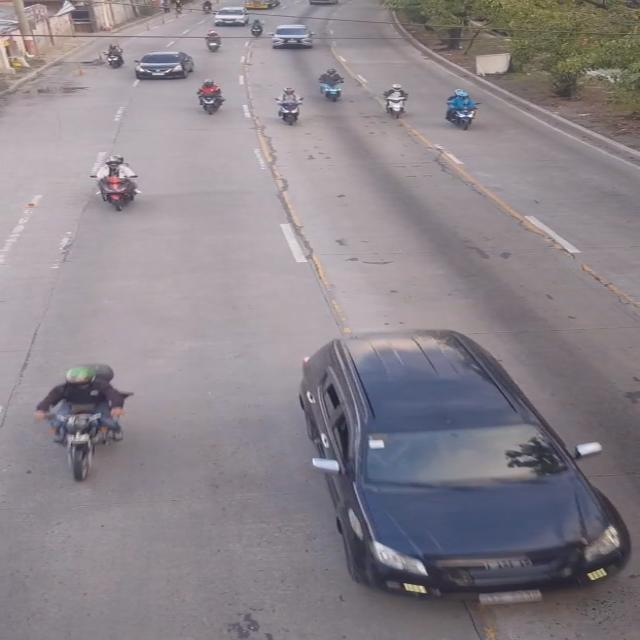car: (296, 326, 634, 596), (133, 51, 195, 82)
motorbike: (49, 364, 125, 486), (97, 149, 140, 215), (434, 88, 480, 130), (277, 86, 302, 128), (196, 78, 224, 115), (318, 65, 343, 104), (384, 82, 407, 120), (196, 31, 224, 56), (103, 43, 127, 69)
